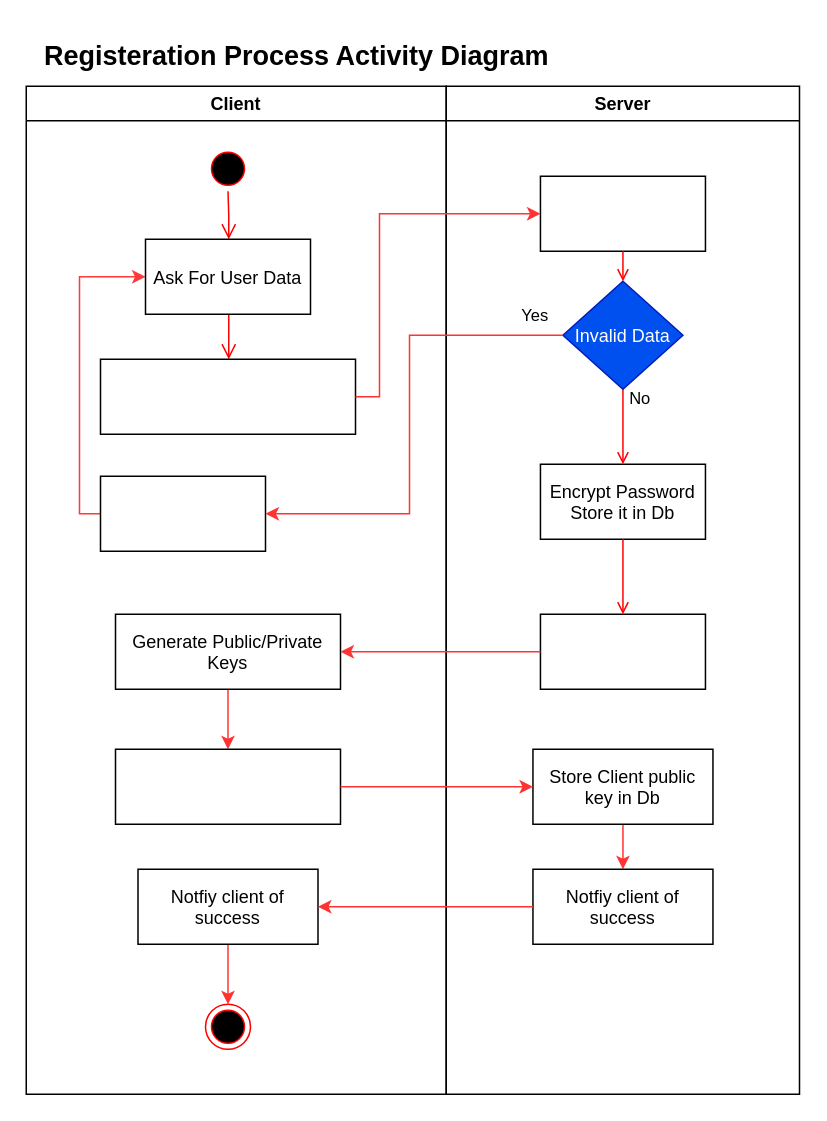
Some shapes in this 827 by 1121 pixel diagram are drawn without their labels. Each missing label, with the box of its shape:
Ask for public key from user: (539, 613, 705, 689)
Notify user of invalid Data: (99, 475, 266, 551)
Send Public key to server: (114, 748, 340, 824)
Send register info to server: (99, 358, 356, 434)
Validate Register Info: (539, 175, 705, 251)
